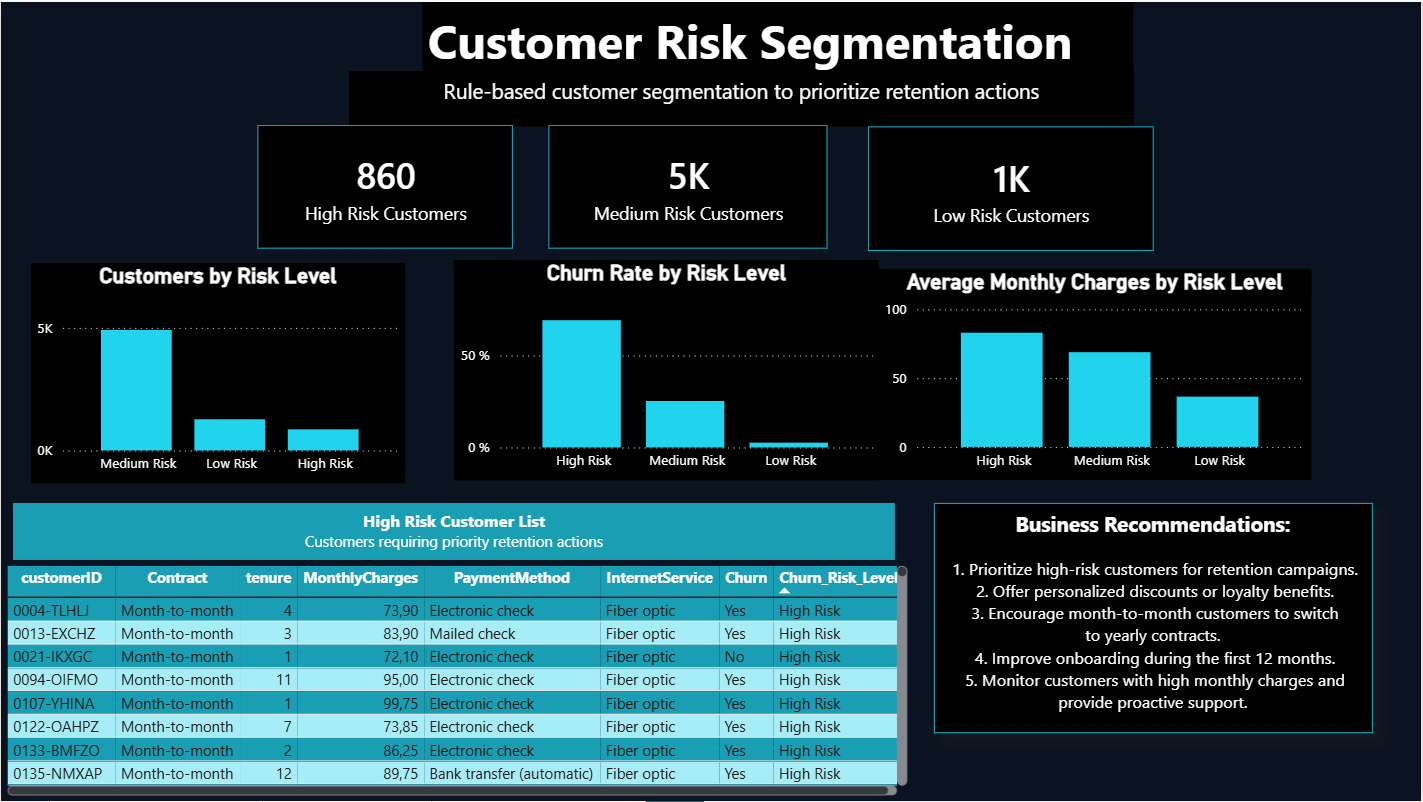

The dashboard page shown, as its layout file describes it:
{"tool":"powerbi","page":{"name":"Risk Segmentation","canvas":[1280,720],"ordinal":2},"visuals":[{"type":"textbox","box":[380.1,0,640.5,68.1],"z":0},{"type":"textbox","box":[313.4,62.1,707.1,50],"z":1000},{"type":"cardVisual","fields":{"Data":["customer_churn_final (1).High Risk Customers"]},"box":[231.4,111.4,230,111.4],"z":2000},{"type":"cardVisual","fields":{"Data":["customer_churn_final (1).Medium Risk Customers"]},"box":[492.9,111.4,251.4,111.4],"z":3000},{"type":"cardVisual","fields":{"Data":["customer_churn_final (1).Low Risk Customers"]},"box":[781.4,101.4,287.1,131.4],"z":4000},{"type":"columnChart","title":"Customers by Risk Level","fields":{"Category":["customer_churn_final (1).Churn_Risk_Level"],"Y":["CountNonNull(customer_churn_final (1).customerID)"]},"box":[27.1,235.7,337.1,198.6],"z":5000},{"type":"columnChart","title":"Churn Rate by Risk Level","fields":{"Category":["customer_churn_final (1).Churn_Risk_Level"],"Y":["customer_churn_final (1).Churn Rate"]},"box":[408.6,232.9,382.9,198.6],"z":6000},{"type":"columnChart","title":"Average Monthly Charges by Risk Level","fields":{"Category":["customer_churn_final (1).Churn_Risk_Level"],"Y":["customer_churn_final (1).Average Monthly Charges"]},"box":[791.4,240,390,190],"z":7000},{"type":"tableEx","fields":{"Values":["customer_churn_final (1).customerID","customer_churn_final (1).Contract","customer_churn_final (1).tenure","customer_churn_final (1).MonthlyCharges","customer_churn_final (1).PaymentMethod","customer_churn_final (1).InternetService","customer_churn_final (1).Churn","customer_churn_final (1).Churn_Risk_Level"]},"box":[0,502.9,821.4,217.1],"z":8000},{"type":"textbox","box":[1101,289,150,150],"z":9000},{"type":"textbox","box":[121.4,450,485.7,52.9],"z":10000},{"type":"textbox","box":[832.9,492.9,342.9,217.1],"z":11000}]}

Visuals, with their boxes in screenshot pixels (x1, y1, x2, y2), scaled from the page's 1280x720 canvas onto the 1423x802 screenshot:
textbox: 423:0:1135:76
textbox: 348:69:1135:125
cardVisual - customer_churn_final (1).High Risk Customers: 257:124:513:248
cardVisual - customer_churn_final (1).Medium Risk Customers: 548:124:827:248
cardVisual - customer_churn_final (1).Low Risk Customers: 869:113:1188:259
"Customers by Risk Level" columnChart: 30:263:405:484
"Churn Rate by Risk Level" columnChart: 454:259:880:481
"Average Monthly Charges by Risk Level" columnChart: 880:267:1313:479
tableEx - customer_churn_final (1).customerID x customer_churn_final (1).Contract: 0:560:913:801
textbox: 1224:322:1391:489
textbox: 135:501:675:560
textbox: 926:549:1307:791
